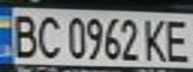0: (63, 12, 87, 61)
2: (118, 15, 142, 62)
6: (103, 15, 124, 61)
9: (84, 14, 106, 61)
B: (6, 10, 42, 60)
C: (33, 11, 63, 60)
E: (160, 16, 193, 64)
K: (139, 16, 172, 63)
